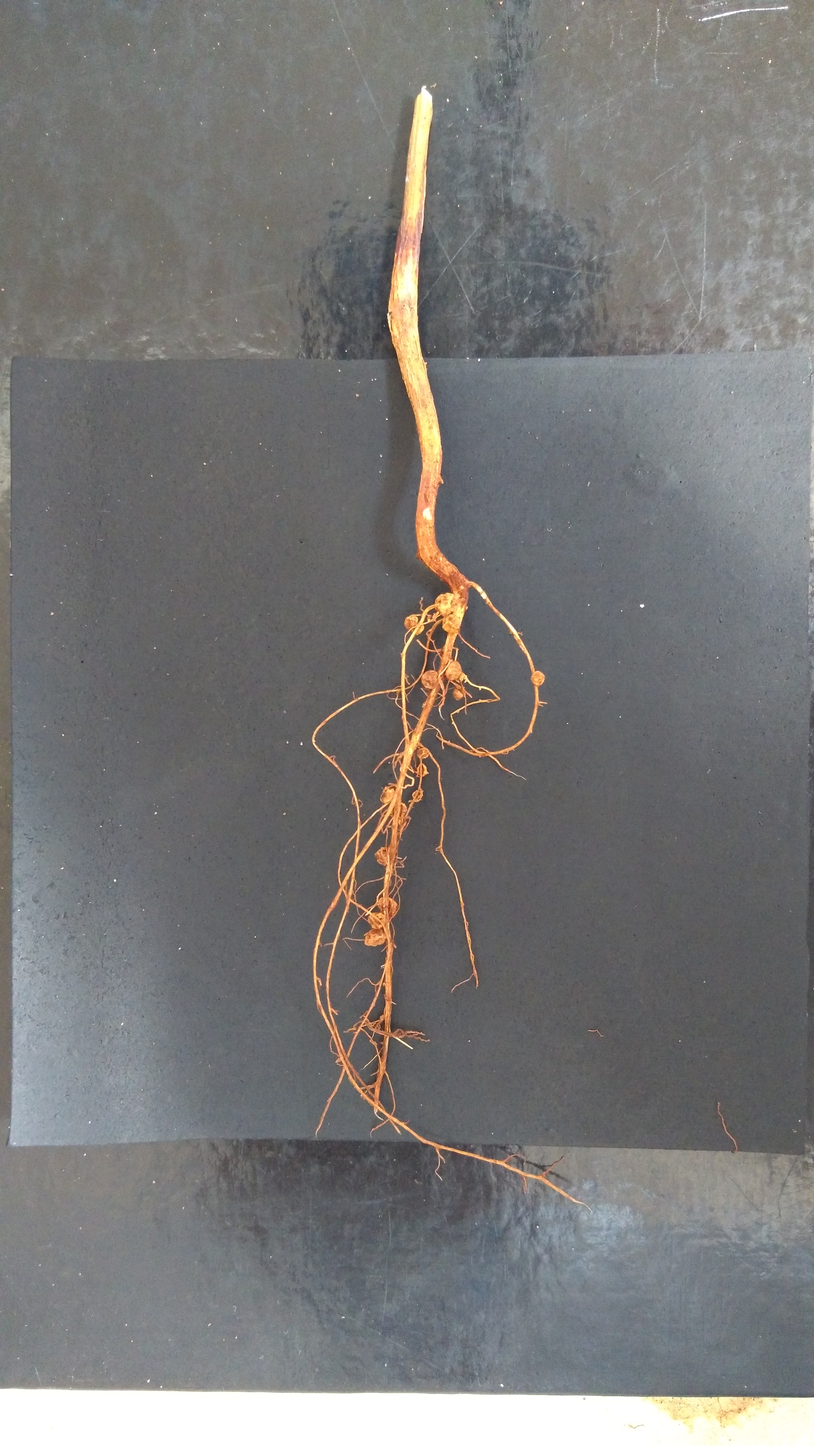nodule: (431, 591, 456, 617), (403, 614, 425, 636), (439, 613, 461, 635), (419, 668, 440, 691), (378, 895, 398, 919), (364, 928, 387, 948), (373, 844, 390, 869), (444, 659, 462, 681), (365, 910, 387, 928), (529, 669, 547, 687), (396, 801, 408, 826), (379, 786, 395, 804), (415, 747, 430, 761), (452, 687, 465, 702), (416, 763, 429, 778), (411, 788, 424, 803), (455, 672, 465, 683)
